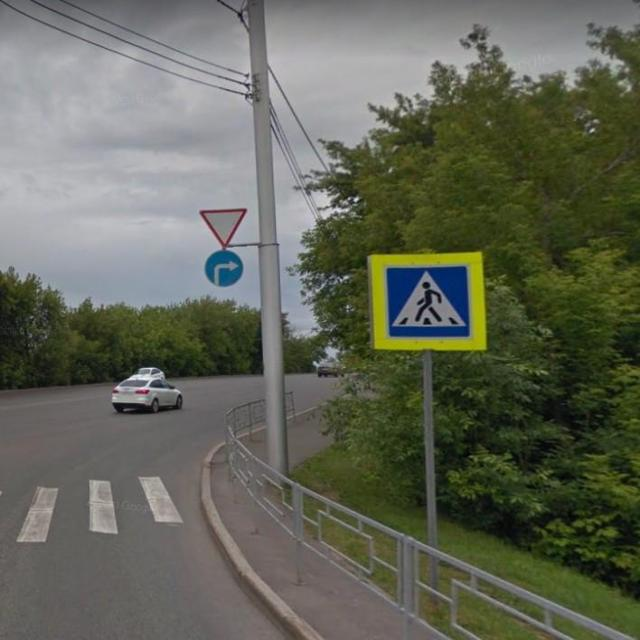crosswalk: (367, 248, 490, 353)
give_way: (197, 204, 251, 254)
